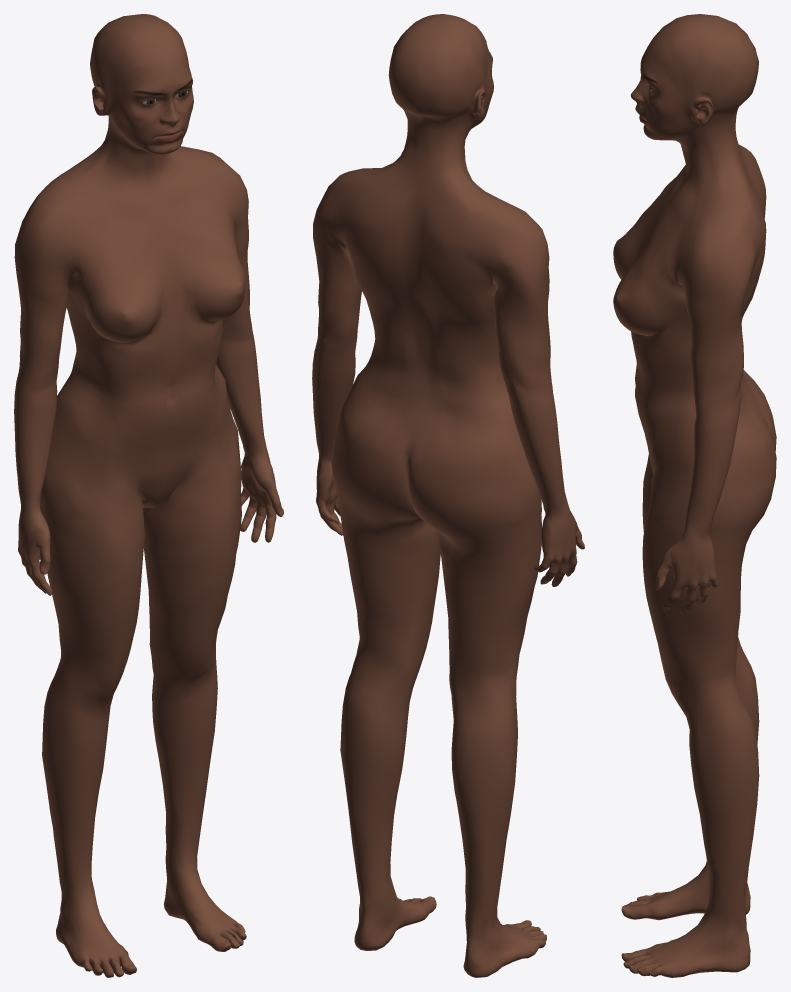
The model's file is woman_african_v4.glb.
3 renders of one model, left to right at view 1: azimuth 30°, elevation 25°; view 2: azimuth 150°, elevation 25°; view 3: azimuth 270°, elevation 25°, orthographic.
Visible parts, largest first — view 1: basemesh_female_body, face_blink; view 2: basemesh_female_body; view 3: basemesh_female_body, face_blink.
Part boxes in pixels (bbox=[...]): basemesh_female_body: bbox=[14, 14, 283, 977]; face_blink: bbox=[106, 56, 193, 129]; basemesh_female_body: bbox=[312, 14, 584, 977]; basemesh_female_body: bbox=[613, 14, 776, 977]; face_blink: bbox=[630, 49, 694, 123].
Size of the model in its own units: 0.481 by 1.71 by 0.2735.
3 materials, 2 textured.
